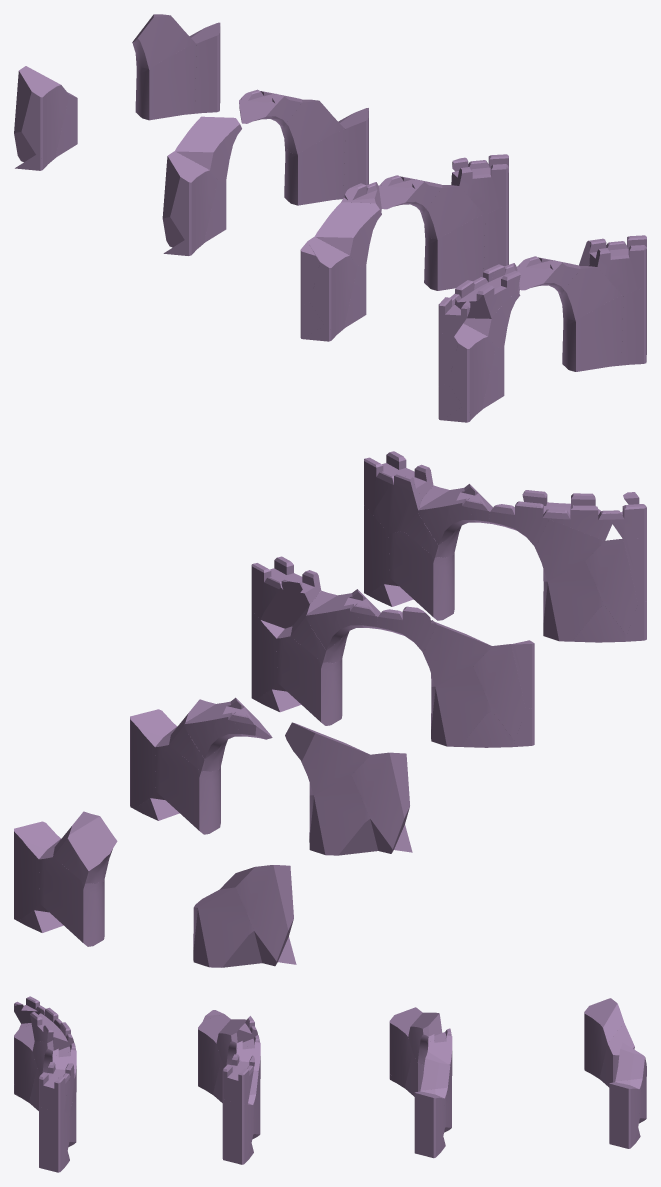
File: DestructionCurvedFinalGate.fbx
3 renders of one model, top to bottom at view 1: azimuth 30°, elevation 25°; view 2: azimuth 150°, elevation 25°; view 3: azimuth 270°, elevation 25°, orthographic. The views are drawn at different scales.
Parts seen in each view (by area): view 1: Cube.003_cell.074, Cube.003_cell.089, Cube.003_cell.102, Cube.003_cell.116; view 2: Cube.003_cell.074, Cube.003_cell.089, Cube.003_cell.102, Cube.003_cell.116; view 3: Cube.003_cell.074, Cube.003_cell.089, Cube.003_cell.102, Cube.003_cell.116.
Boxes of the visible parts, left/top/right/bottom form: Cube.003_cell.074: left=438, top=235, right=646, bottom=422; Cube.003_cell.089: left=300, top=154, right=508, bottom=341; Cube.003_cell.102: left=162, top=89, right=368, bottom=255; Cube.003_cell.116: left=14, top=14, right=220, bottom=170; Cube.003_cell.074: left=364, top=451, right=646, bottom=642; Cube.003_cell.089: left=251, top=556, right=534, bottom=747; Cube.003_cell.102: left=130, top=697, right=412, bottom=855; Cube.003_cell.116: left=14, top=811, right=296, bottom=967; Cube.003_cell.074: left=14, top=996, right=76, bottom=1172; Cube.003_cell.089: left=198, top=1010, right=260, bottom=1164; Cube.003_cell.102: left=389, top=1007, right=452, bottom=1158; Cube.003_cell.116: left=584, top=998, right=646, bottom=1148.
Bounding box in the file's own units: 3477 × 1345 × 8483.
